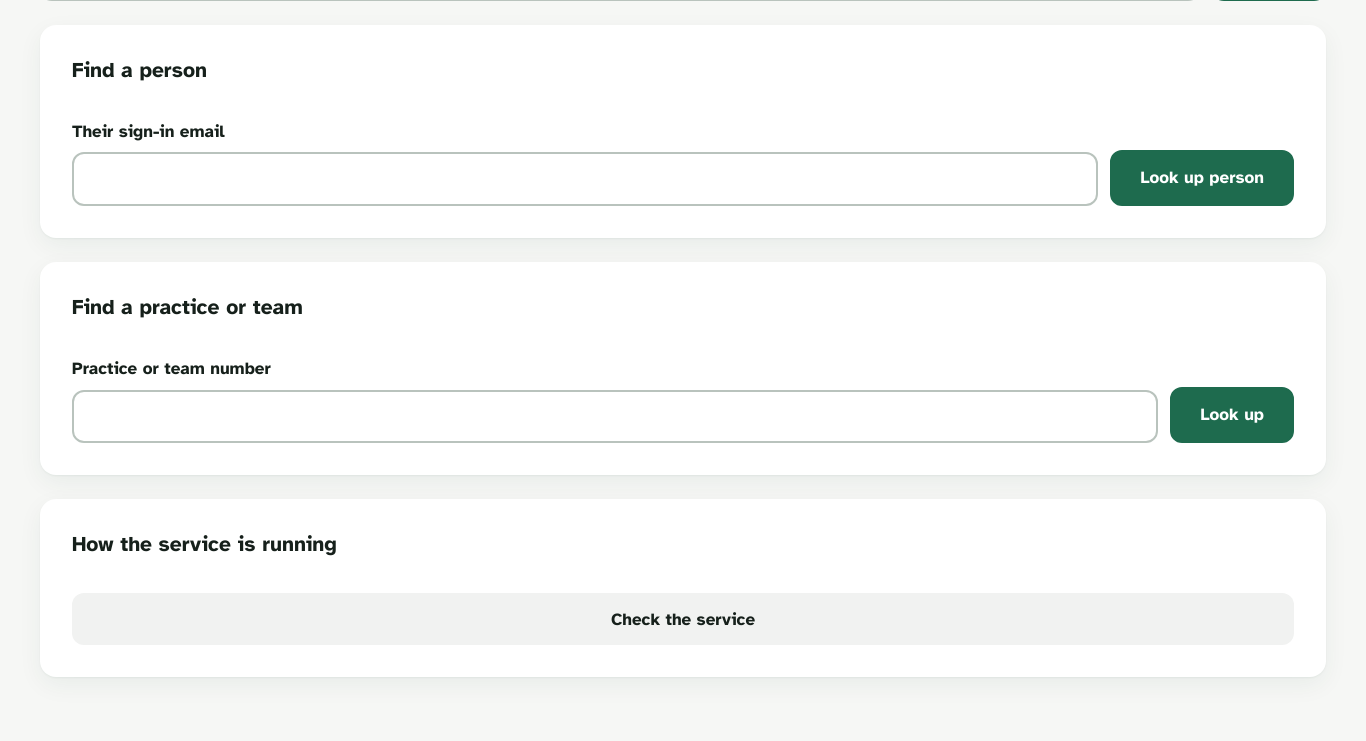
Test: an organisation look-up shows owners, open cases, members, invites and reassignments
The width and height of the screenshot is (1366, 741).
(page scrolled)
Type "22222222-2222-4222-8222-222222222222" into the field labelled "Practice or team number".
click(615, 416); type("22222222-2222-4222-8222-222222222222")  # box [72,390,1158,443]
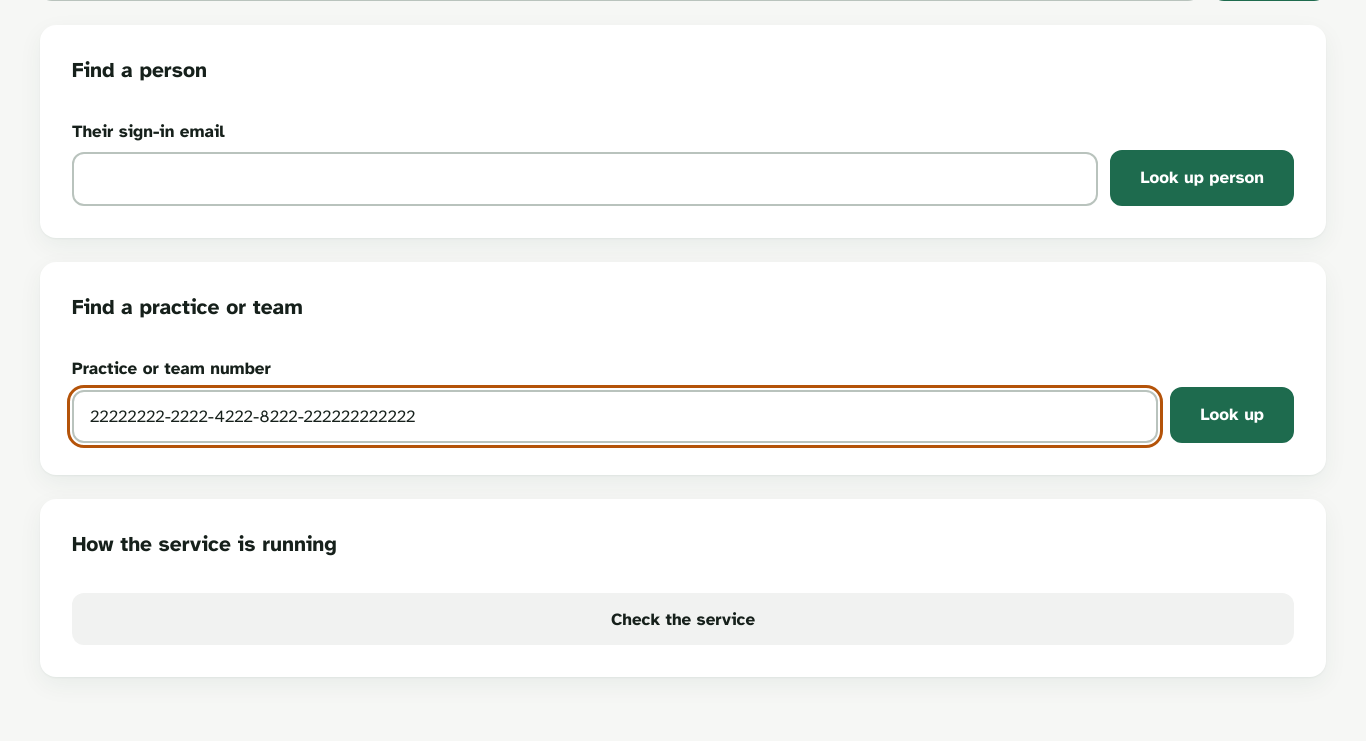
Click the button "Look up".
click(1232, 415)  # box [1170,387,1294,443]
(page scrolled)
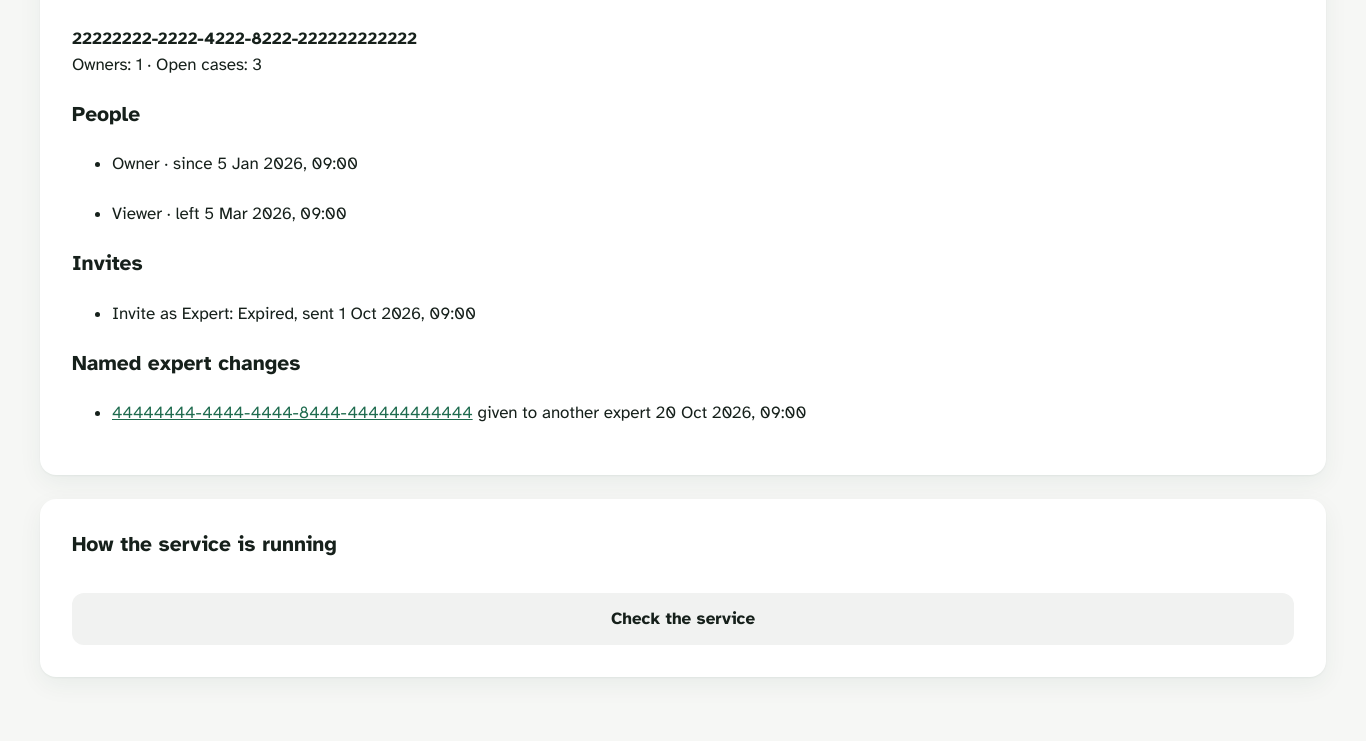
Check: the text "Owners: 1 · Open cases: 3" is shown, box [72,54,262,74]
Check: the list item "Owner · since 5 Jan 2026, 09:00" is shown, box [112,153,358,174]
Check: the list item "Viewer · left 5 Mar 2026, 09:00" is shown, box [112,203,347,224]
